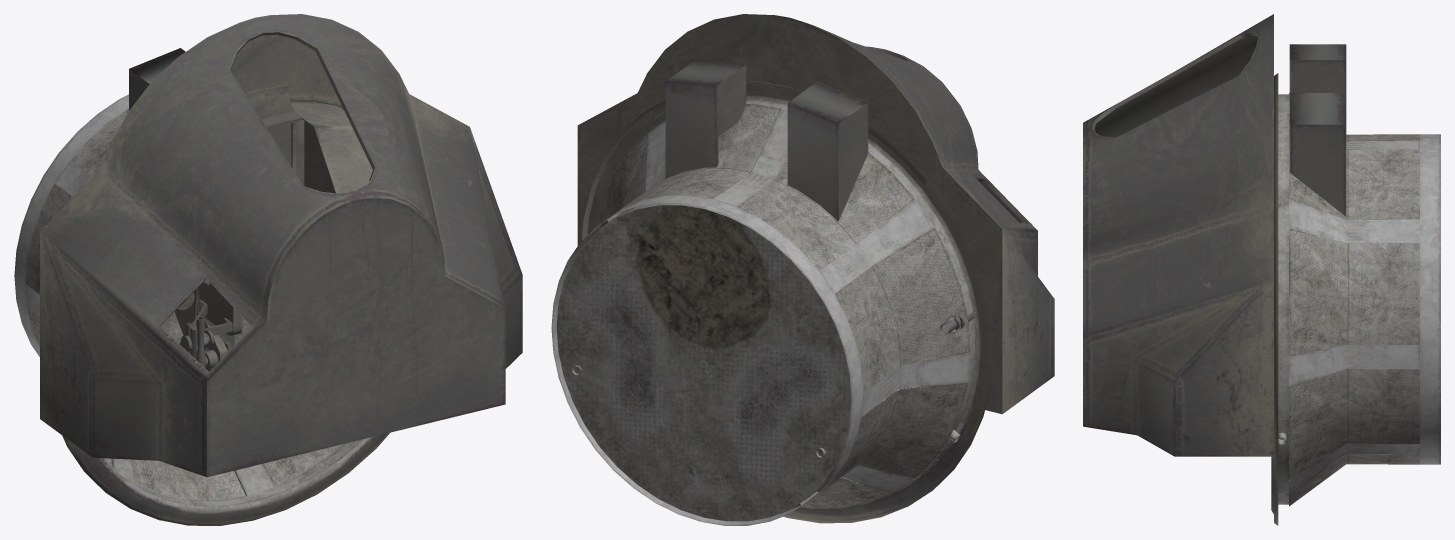
File: Turret_01.glb
3 views of the same model, side by side, from view 1: azimuth 30°, elevation 25°; view 2: azimuth 150°, elevation 25°; view 3: azimuth 270°, elevation 25° (orthographic). The views are drawn at different scales.
Parts seen in each view (by area): view 1: set_0_group_0; view 2: set_0_group_0; view 3: set_0_group_0.
Part boxes in pixels (x1=…): set_0_group_0: x1=14, y1=14, x2=522, y2=525; set_0_group_0: x1=551, y1=14, x2=1054, y2=525; set_0_group_0: x1=1083, y1=14, x2=1440, y2=525.
Bounding box in the file's own units: 2.44 × 2.74 × 1.87.
1 material, 1 textured.
